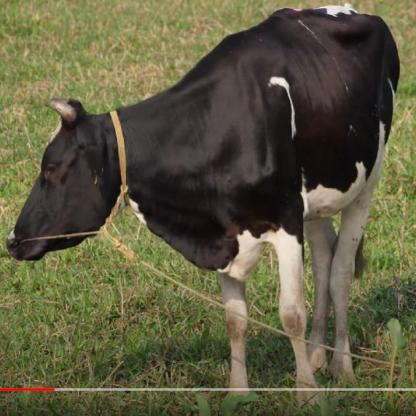cow: (6, 6, 401, 406)
